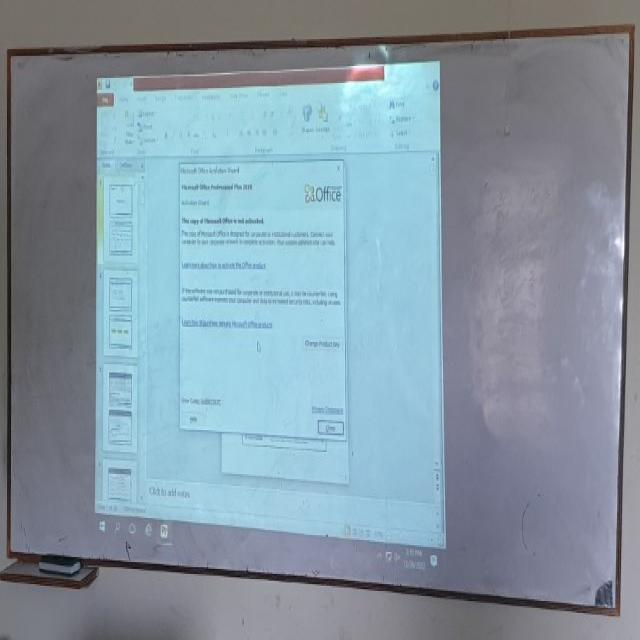Slide: (95, 51, 447, 570)
White-board: (8, 27, 632, 610)
